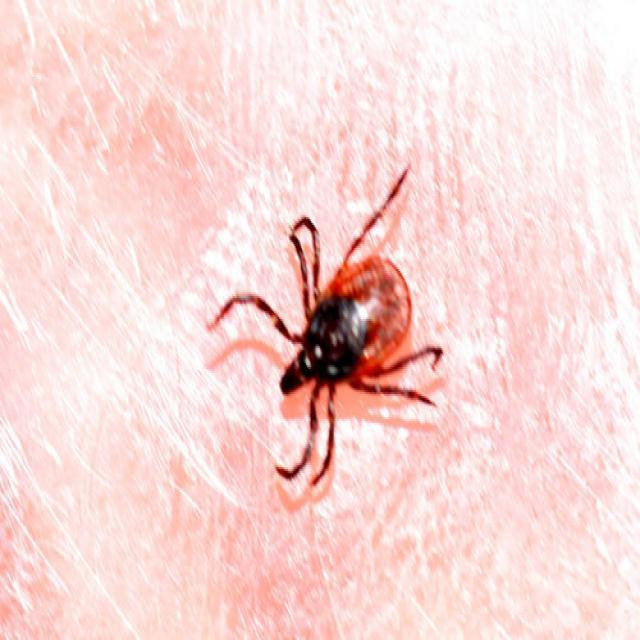Ixodes Ricinus-F: (212, 167, 443, 505)
